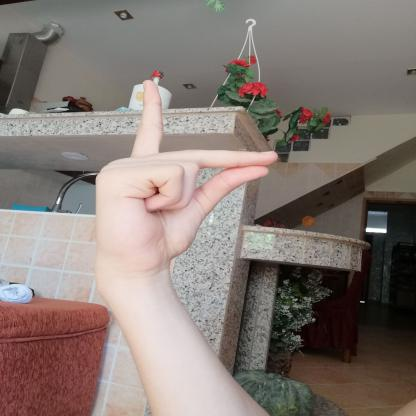TAA: (83, 72, 287, 286)
